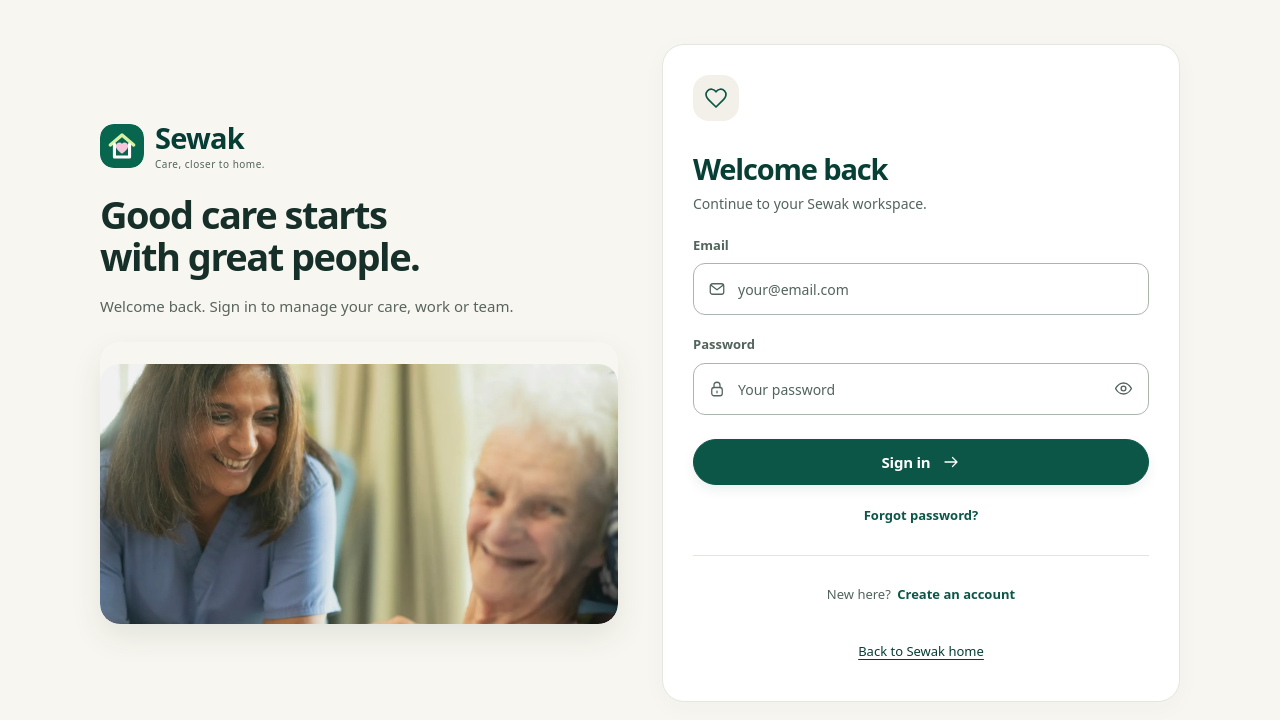
recovery guidance does not pretend to send mail or expose account existence
The image size is (1280, 720).
What coordinates should you click on to do the following:
click the button "Forgot password?"
I would click on:
 (921, 515)
Its box is left=864, top=493, right=978, bottom=537.
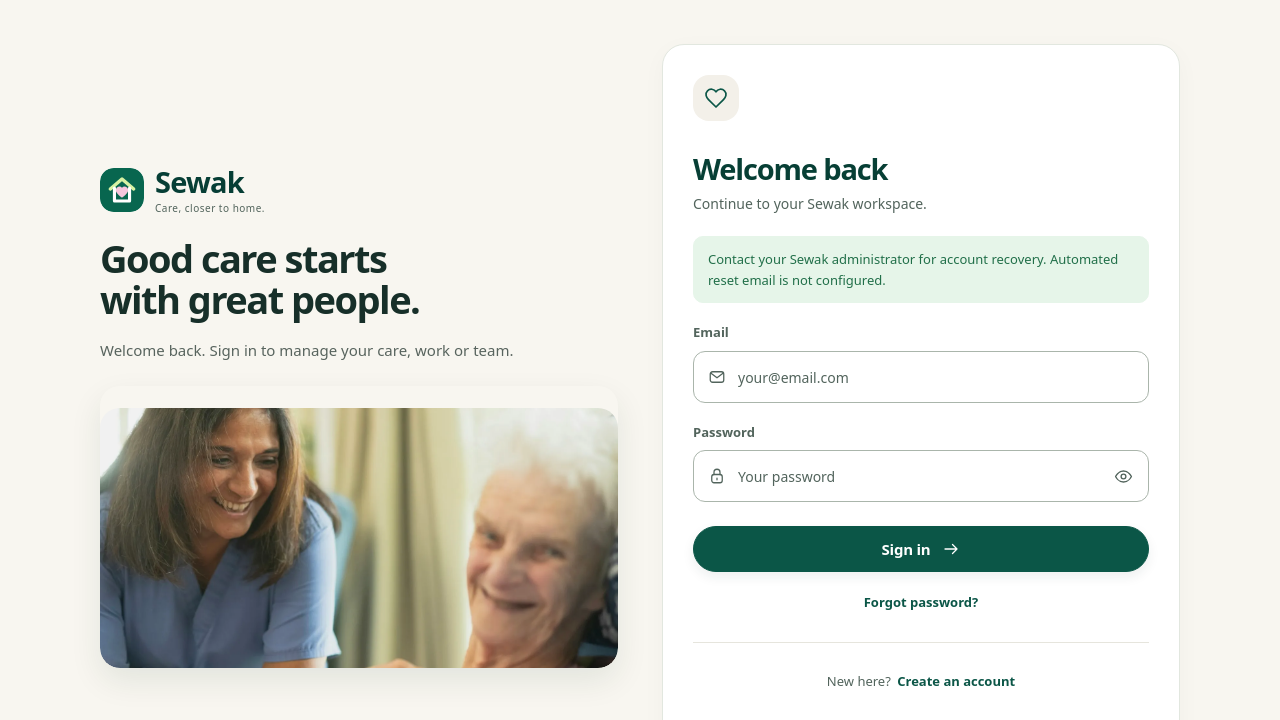
Expected: the text "Contact your Sewak administrator" is shown, left=708, top=250, right=1118, bottom=288
